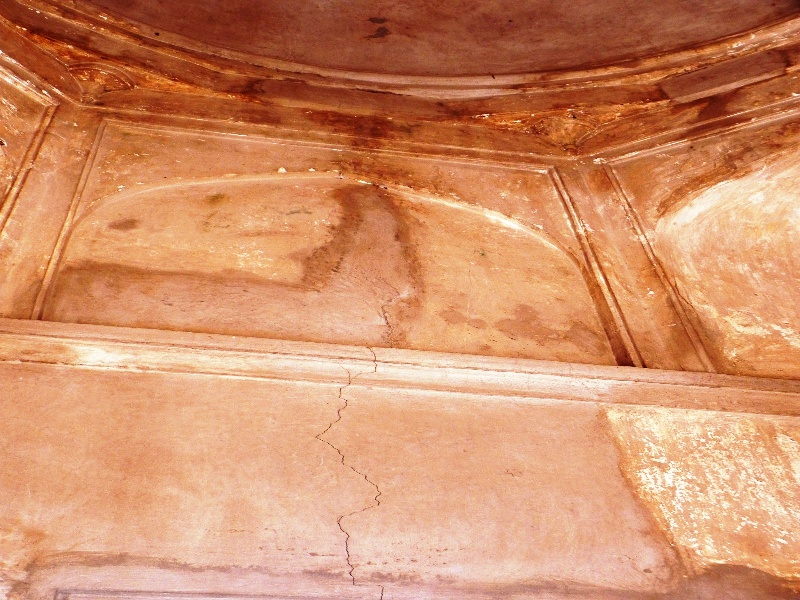Crack: (305, 281, 406, 592)
